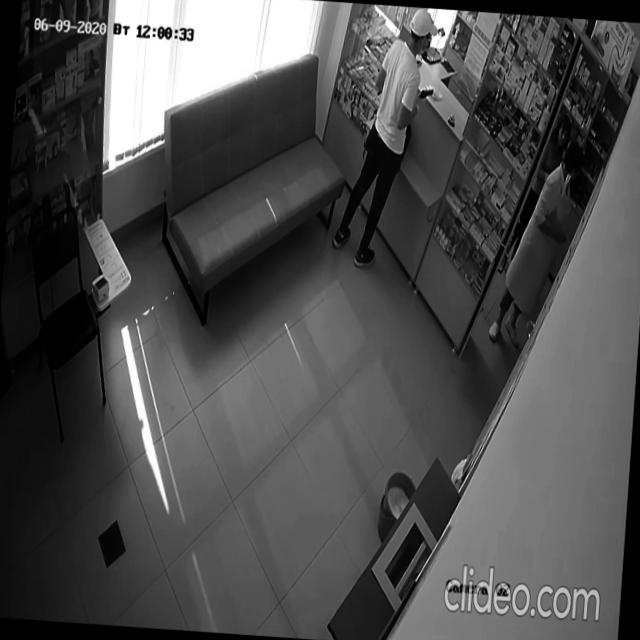gun: (418, 86, 434, 100)
person: (486, 134, 584, 357), (496, 108, 572, 280)
person with a gun: (330, 2, 441, 272)
